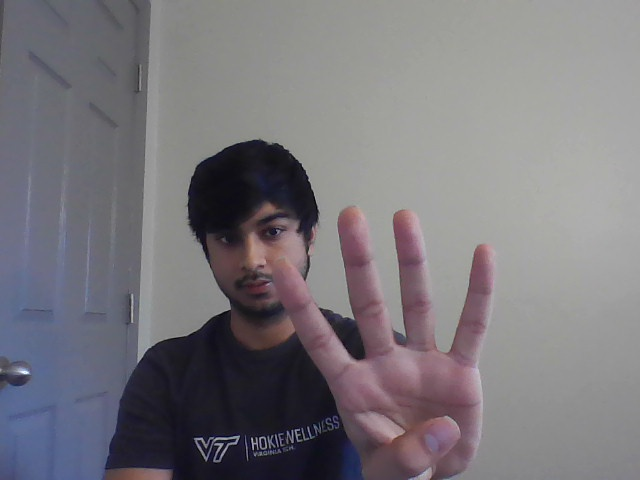four: (267, 202, 505, 474)
